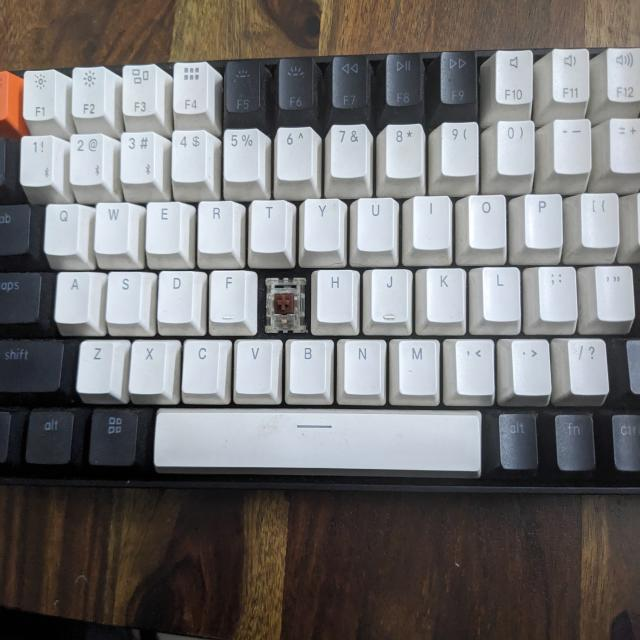C: (265, 271, 306, 336)
